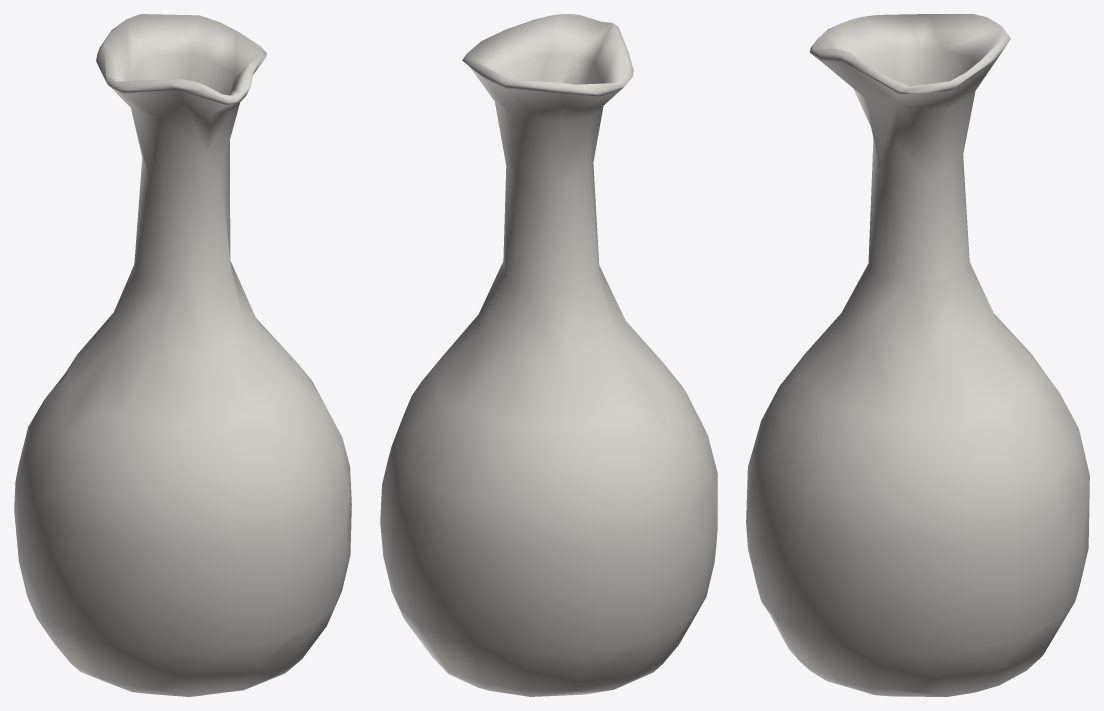
File: vase1.glb
The picture shows the model from 3 angles, left to right: view 1: azimuth 30°, elevation 25°; view 2: azimuth 150°, elevation 25°; view 3: azimuth 270°, elevation 25°; orthographic projection.
Visible parts, largest first — view 1: ceramic_vase_01; view 2: ceramic_vase_01; view 3: ceramic_vase_01.
Boxes of the visible parts, x1=… form: ceramic_vase_01: x1=14, y1=14, x2=351, y2=696; ceramic_vase_01: x1=380, y1=14, x2=717, y2=696; ceramic_vase_01: x1=746, y1=14, x2=1089, y2=696.
Bounding box in the file's own units: 0.2022 × 0.3999 × 0.2018.
Materials: 1 (1 with a texture image).
